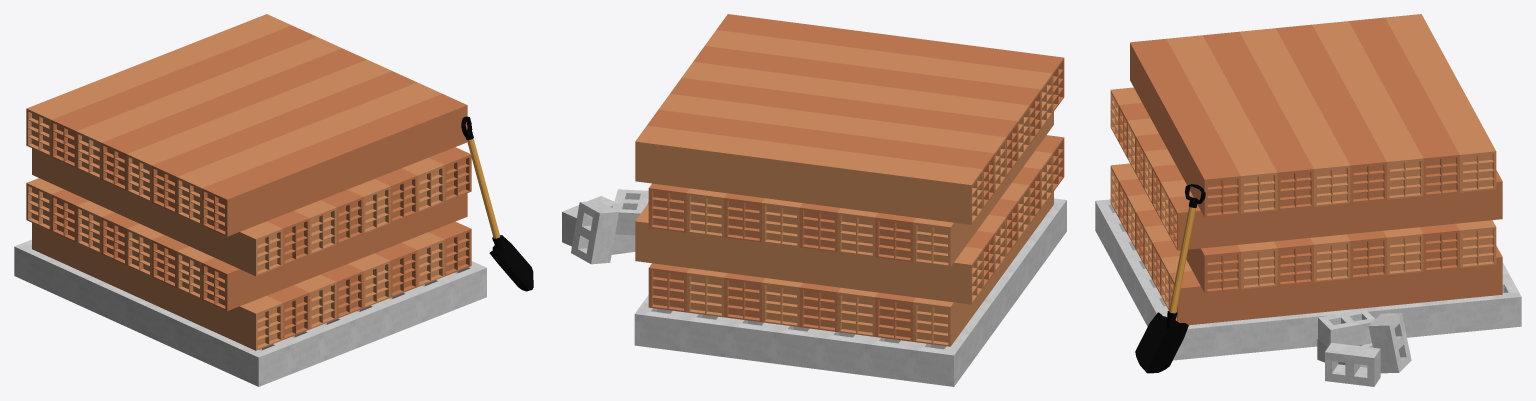
The model's file is Ladrillos y Pala.fbx.
3 renders of one model, left to right at view 1: azimuth 30°, elevation 25°; view 2: azimuth 150°, elevation 25°; view 3: azimuth 270°, elevation 25°, orthographic. The views are drawn at different scales.
Parts seen in each view (by area): view 1: Ladrillos y pala; view 2: Ladrillos y pala; view 3: Ladrillos y pala.
Boxes of the visible parts, x1,y1,x2,y2 form: Ladrillos y pala: (14,14,533,386); Ladrillos y pala: (562,14,1066,386); Ladrillos y pala: (1095,14,1521,386).
Size of the model in its own units: 7.7 by 3.24 by 6.9.
